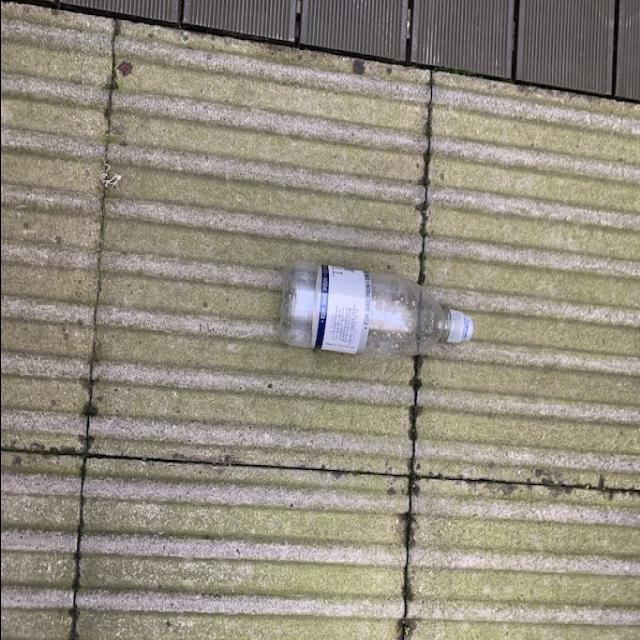PET: (276, 261, 480, 359)
